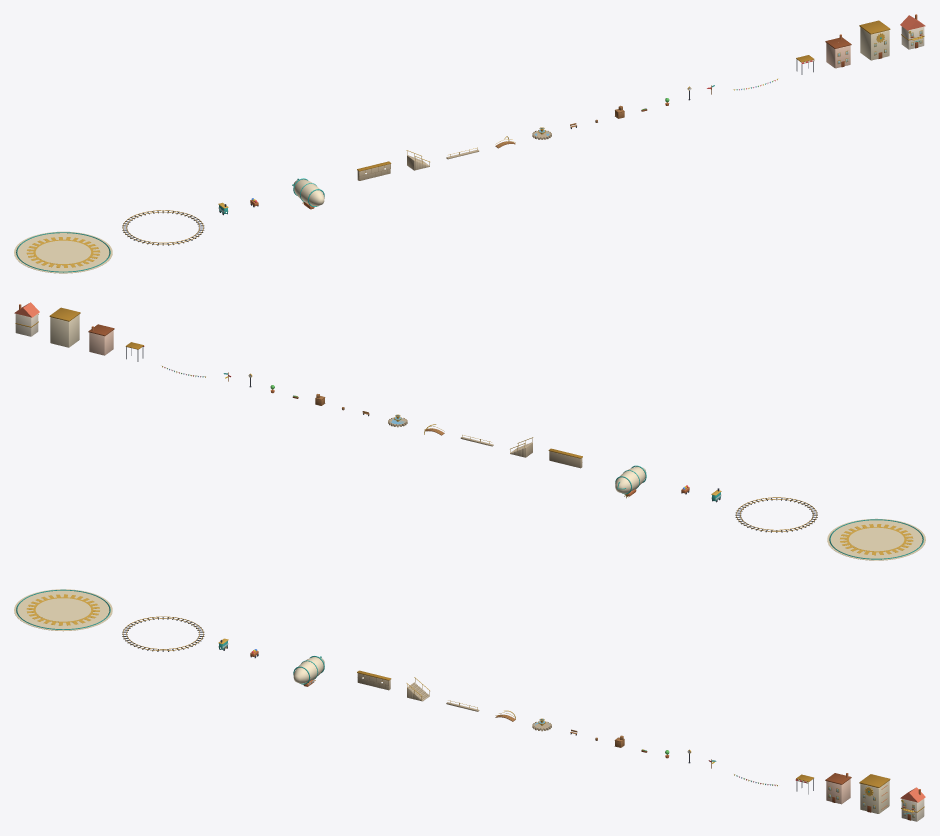
The model's file is Clockwork_v2.fbx.
3 renders of one model, top to bottom at view 1: azimuth 30°, elevation 25°; view 2: azimuth 150°, elevation 25°; view 3: azimuth 330°, elevation 25°, orthographic.
Visible parts, largest first — view 1: GearPlaza__Floor__EADBB8SP, GearPlaza__Floor2__EADBB8SP, TallWorkshop__Walls__F6E7C8SP, GearPlaza__Inlay__E0B04ASP, Airship__Envelope__F6E7C8SP; view 2: GearPlaza__Floor__EADBB8SP, GearPlaza__Floor2__EADBB8SP, TallWorkshop__Walls__F6E7C8SP, GearPlaza__Inlay__E0B04ASP, Airship__Envelope__F6E7C8SP; view 3: GearPlaza__Floor__EADBB8SP, GearPlaza__Floor2__EADBB8SP, TallWorkshop__Walls__F6E7C8SP, GearPlaza__Inlay__E0B04ASP, Airship__Envelope__F6E7C8SP.
Boxes of the visible parts, left/top/right/bottom form: GearPlaza__Floor__EADBB8SP: left=14, top=231, right=112, bottom=273; GearPlaza__Floor2__EADBB8SP: left=35, top=240, right=90, bottom=263; TallWorkshop__Walls__F6E7C8SP: left=860, top=27, right=889, bottom=60; GearPlaza__Inlay__E0B04ASP: left=26, top=237, right=99, bottom=267; Airship__Envelope__F6E7C8SP: left=293, top=179, right=324, bottom=206; GearPlaza__Floor__EADBB8SP: left=827, top=518, right=925, bottom=560; GearPlaza__Floor2__EADBB8SP: left=849, top=527, right=904, bottom=551; TallWorkshop__Walls__F6E7C8SP: left=50, top=314, right=79, bottom=347; GearPlaza__Inlay__E0B04ASP: left=840, top=524, right=913, bottom=555; Airship__Envelope__F6E7C8SP: left=615, top=466, right=646, bottom=493; GearPlaza__Floor__EADBB8SP: left=14, top=589, right=112, bottom=631; GearPlaza__Floor2__EADBB8SP: left=35, top=598, right=91, bottom=621; TallWorkshop__Walls__F6E7C8SP: left=860, top=781, right=889, bottom=813; GearPlaza__Inlay__E0B04ASP: left=26, top=594, right=99, bottom=625; Airship__Envelope__F6E7C8SP: left=293, top=657, right=324, bottom=683.
Size of the model in its own units: 569 by 25.9 by 54.
